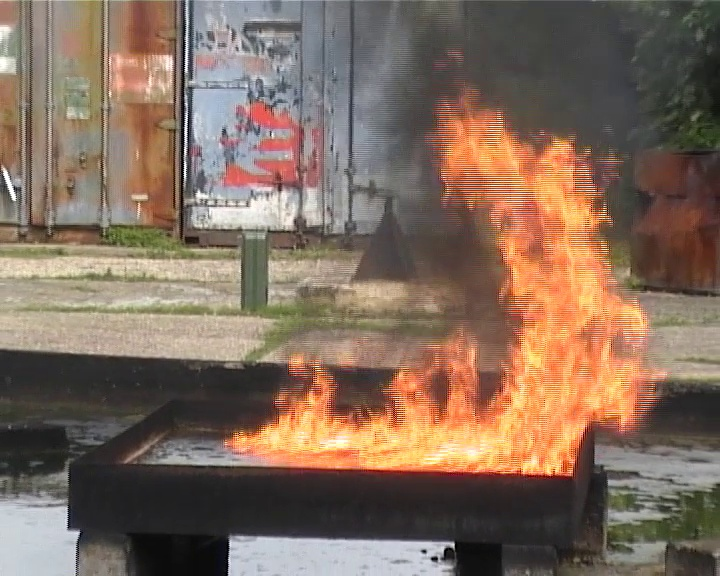fire: (248, 106, 643, 471)
